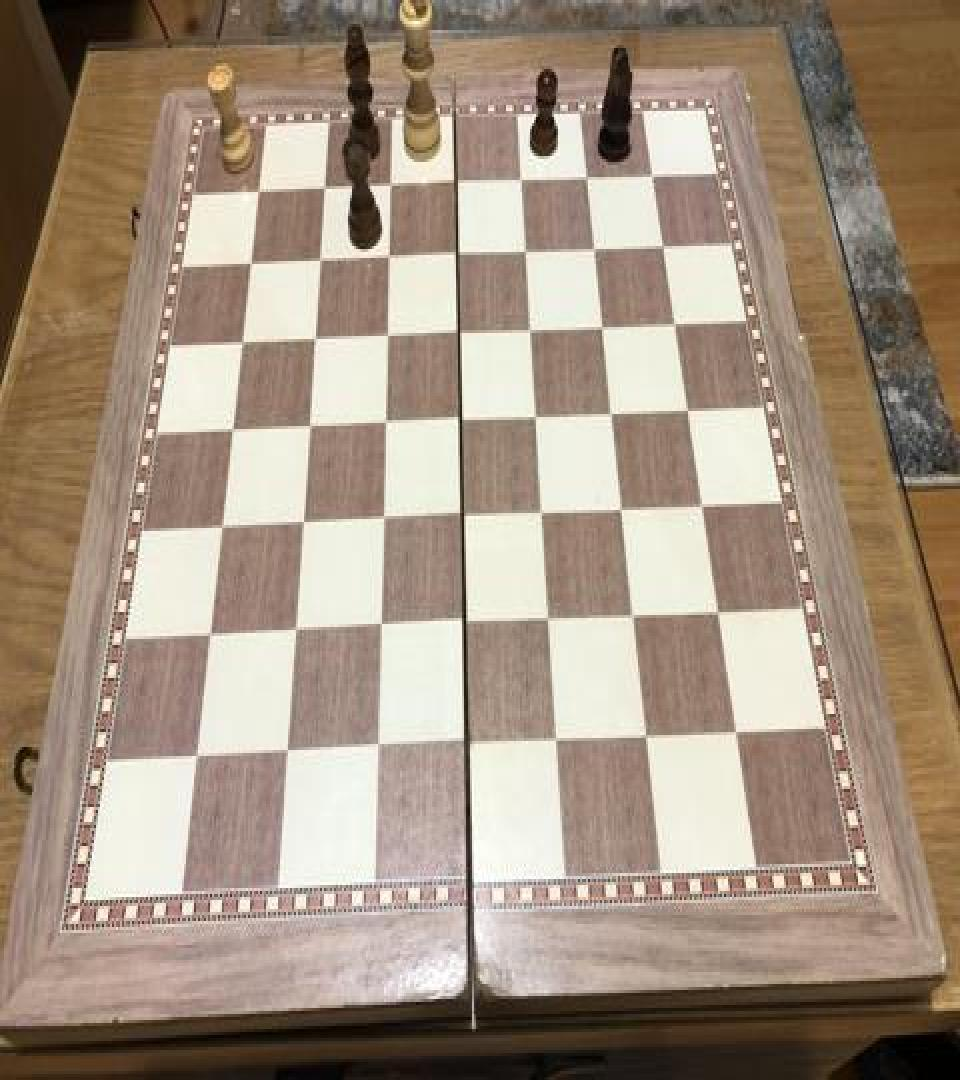xcorner: (535, 601, 559, 638), (632, 718, 656, 755), (184, 739, 208, 776), (638, 158, 662, 194), (573, 160, 597, 196), (507, 164, 531, 200), (442, 166, 466, 202), (376, 168, 400, 204), (311, 171, 335, 207), (245, 174, 269, 210), (649, 228, 673, 264), (580, 231, 604, 267), (512, 234, 536, 270), (443, 237, 467, 273), (375, 240, 399, 276), (306, 243, 330, 279), (237, 246, 261, 282), (660, 306, 684, 342), (589, 309, 613, 345), (517, 312, 541, 348), (445, 316, 469, 352), (373, 320, 397, 356), (301, 322, 325, 358), (229, 326, 253, 362), (673, 392, 697, 428), (598, 396, 622, 432), (522, 399, 546, 435), (447, 402, 471, 438), (371, 406, 395, 442), (295, 410, 319, 446), (688, 488, 712, 524), (608, 492, 632, 528), (528, 495, 552, 531), (449, 498, 473, 534), (369, 502, 393, 538), (289, 506, 313, 542), (209, 510, 233, 546), (704, 594, 728, 630), (620, 598, 644, 634), (451, 606, 475, 642), (366, 609, 390, 645), (282, 614, 306, 650), (197, 618, 221, 654), (722, 714, 746, 750), (543, 722, 567, 758), (453, 726, 477, 762), (363, 730, 387, 766), (274, 735, 298, 771), (219, 413, 243, 448)
